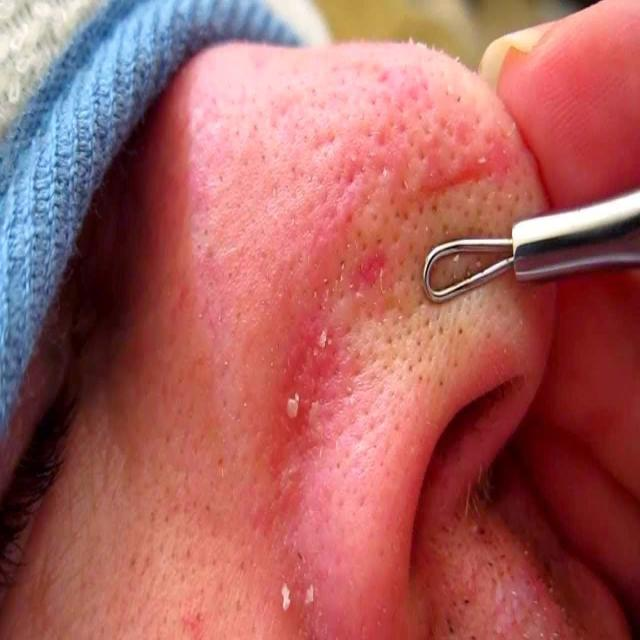Acne: (250, 38, 550, 640)
